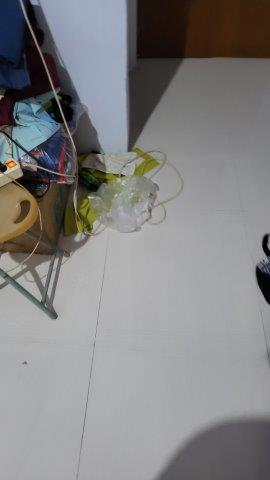plastik: (86, 170, 167, 249)
